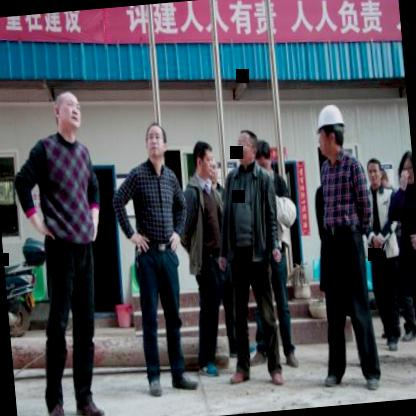head: (51, 84, 85, 140), (141, 121, 169, 167), (189, 138, 216, 184), (234, 125, 262, 168), (396, 148, 416, 195), (253, 138, 275, 180), (364, 154, 384, 192), (205, 157, 221, 188)
helmet: (312, 98, 349, 162)
